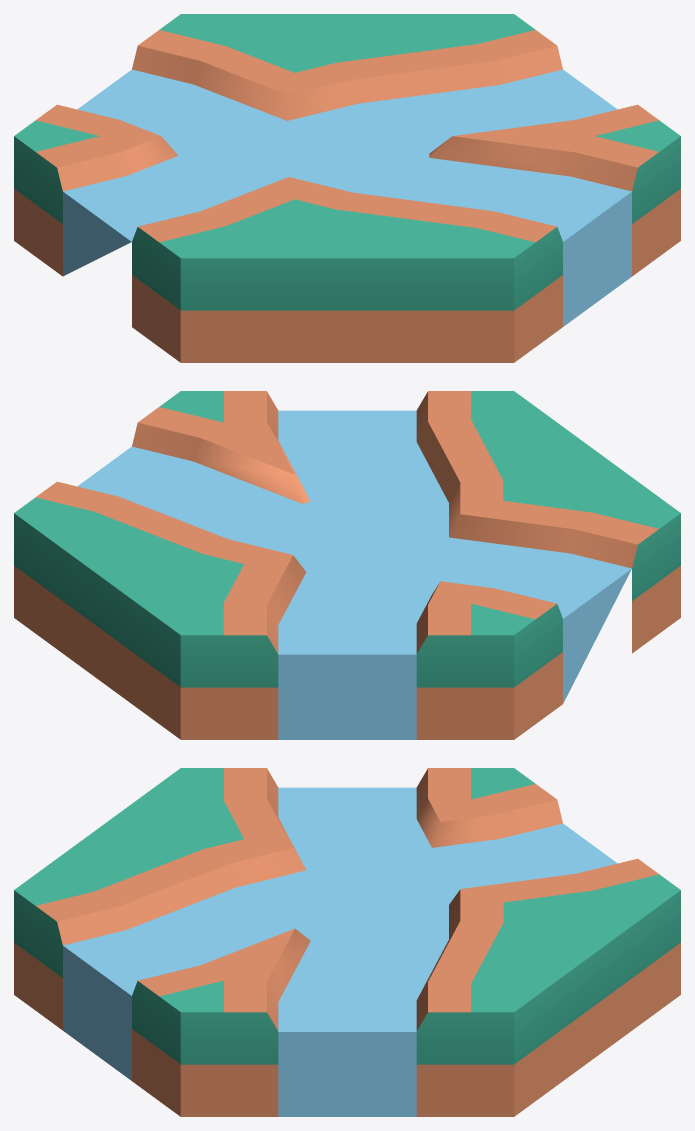
Rendered from kenney-hexagon-river-intersectione.glb.
3 renders of one model, top to bottom at view 1: azimuth 30°, elevation 25°; view 2: azimuth 150°, elevation 25°; view 3: azimuth 270°, elevation 25°, orthographic.
Parts seen in each view (by area): view 1: river_intersectionE; view 2: river_intersectionE; view 3: river_intersectionE.
Part boxes in pixels (left/top/right/bottom): river_intersectionE: left=14, top=14, right=680, bottom=362; river_intersectionE: left=14, top=391, right=680, bottom=739; river_intersectionE: left=14, top=768, right=680, bottom=1116.
Bounding box in the file's own units: 1 × 0.2 × 1.15.
Materials: 1 (1 with a texture image).
